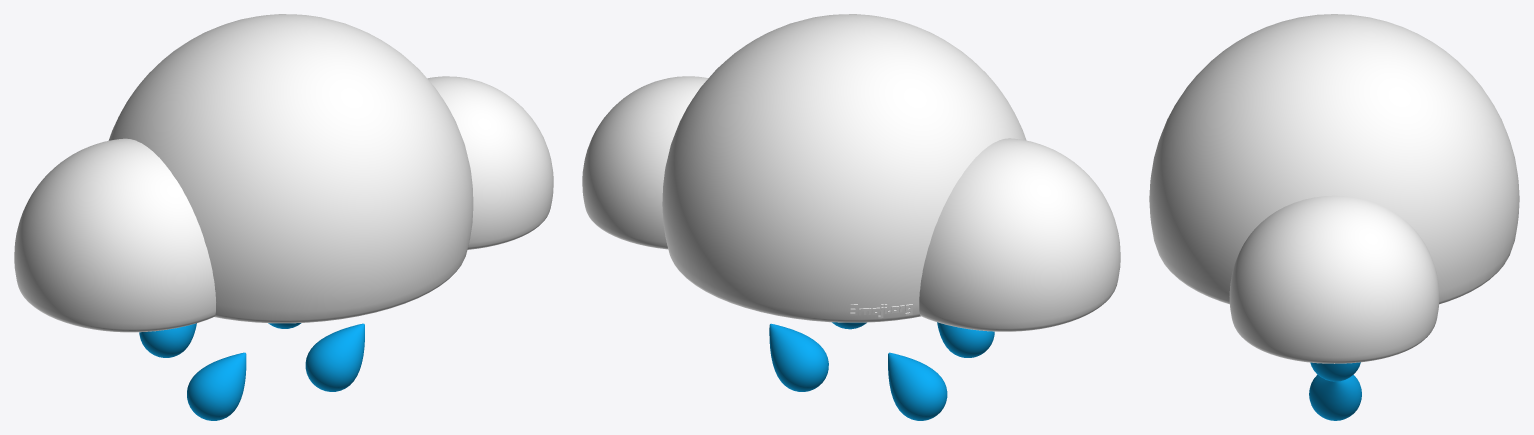
The model's file is cloud_with_rain.fbx.
The picture shows the model from 3 angles, left to right: view 1: azimuth 30°, elevation 25°; view 2: azimuth 150°, elevation 25°; view 3: azimuth 270°, elevation 25°; orthographic projection.
Visible parts, largest first — view 1: Cube.208; view 2: Cube.208; view 3: Cube.208.
Part boxes in pixels (x1,y1,x2,y2): Cube.208: (14, 14, 553, 420); Cube.208: (582, 14, 1120, 420); Cube.208: (1149, 14, 1519, 420).
Bounding box in the file's own units: 215 × 149 × 137.
Materials: 1 (1 with a texture image).
